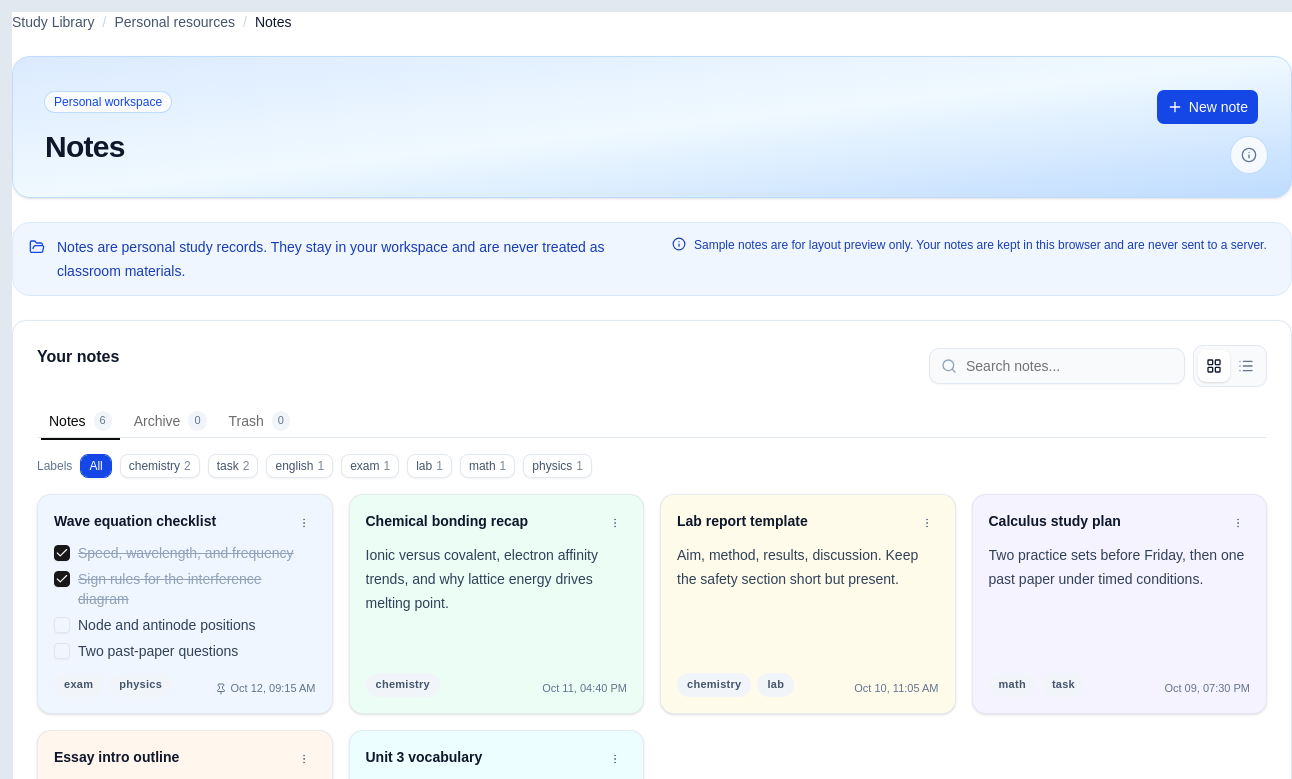
Test: NotesView › opens the per-note menu with edit, pin, archive, and delete
What coordinates should you click on to do the following:
click the button named "Options for Chemical bonding recap"
I would click on:
 (615, 523)
Its box is [603,511,627,535].
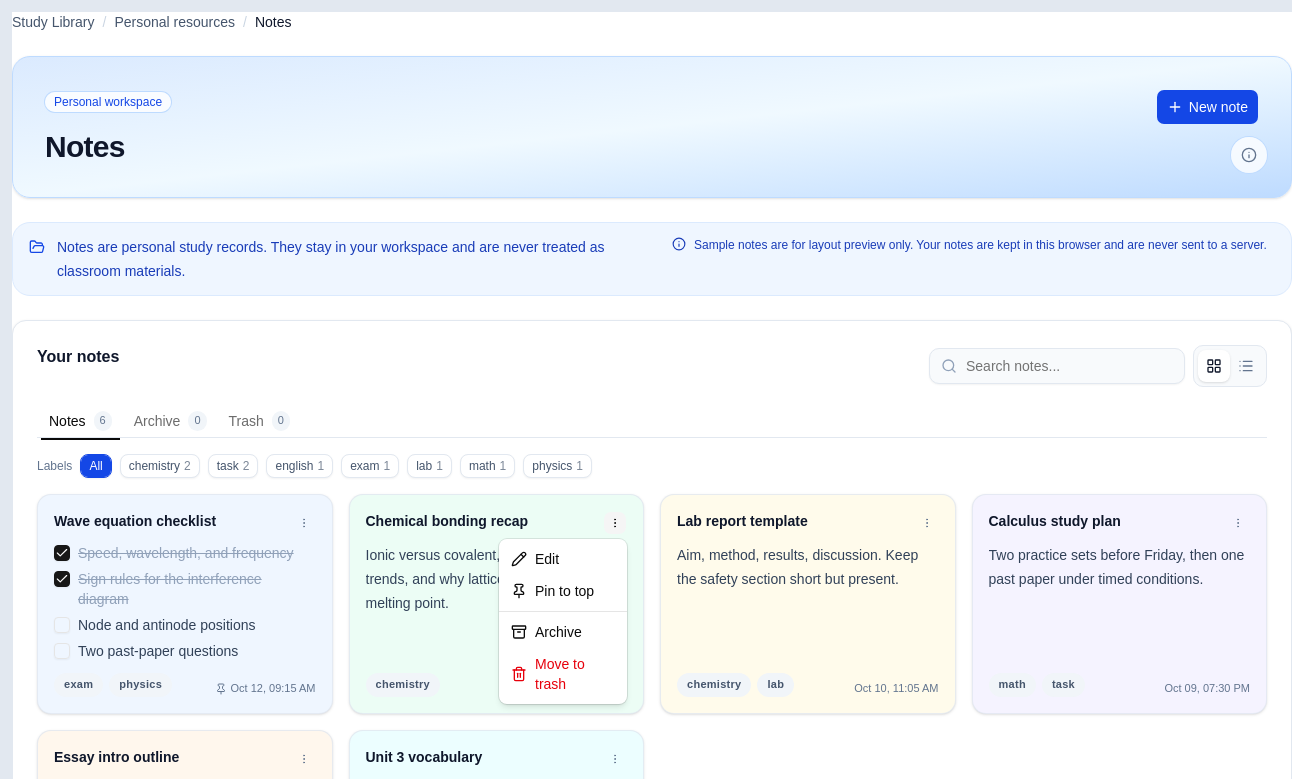
Expected: the menu item "Edit" is shown, [511,551,559,567]
Expected: the menu item "Pin to top" is shown, [511,583,594,599]
Expected: the menu item "Archive" is shown, [511,624,582,640]
